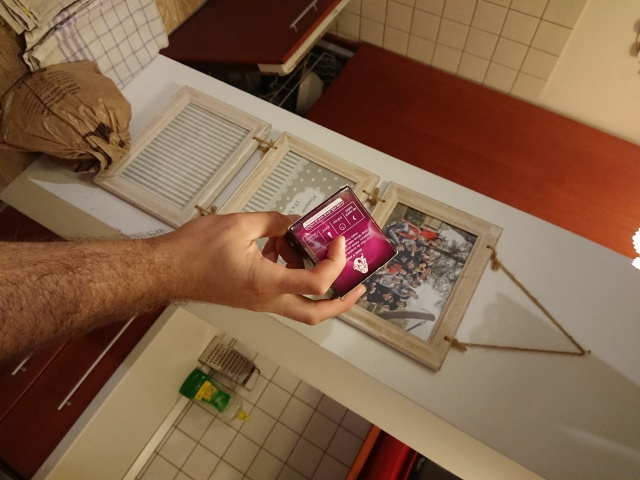Franck Black Currant Tea 60g: (282, 184, 400, 299)
